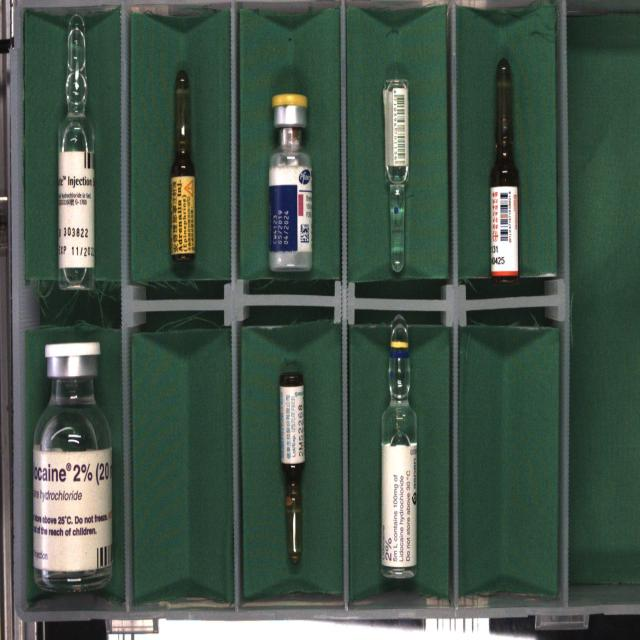Vials: (33, 342, 112, 591), (269, 94, 312, 271)
